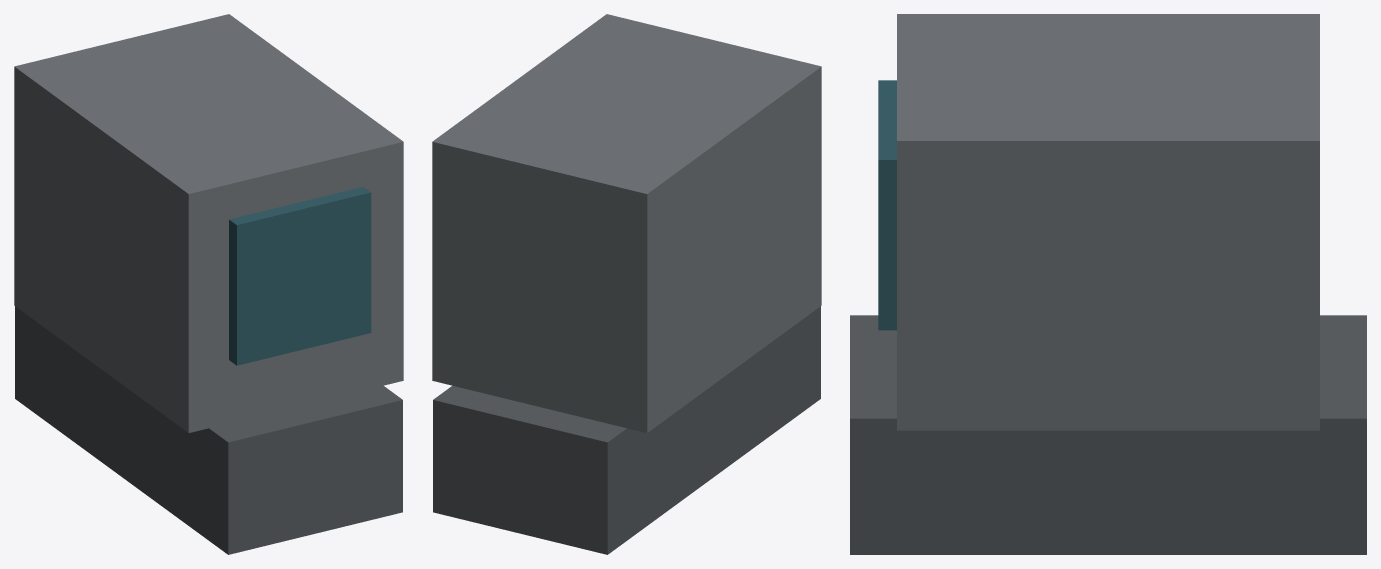
Rendered from att_red_dot.glb.
3 views of the same model, side by side, from view 1: azimuth 30°, elevation 25°; view 2: azimuth 150°, elevation 25°; view 3: azimuth 270°, elevation 25° (orthographic). The views are drawn at different scales.
Visible parts, largest first — view 1: att_red_dot; view 2: att_red_dot; view 3: att_red_dot.
Boxes of the visible parts, bbox=[...] form: att_red_dot: bbox=[14, 14, 403, 554]; att_red_dot: bbox=[432, 14, 821, 554]; att_red_dot: bbox=[850, 14, 1366, 554].
Size of the model in its own units: 0.0416 by 0.065 by 0.0715.
